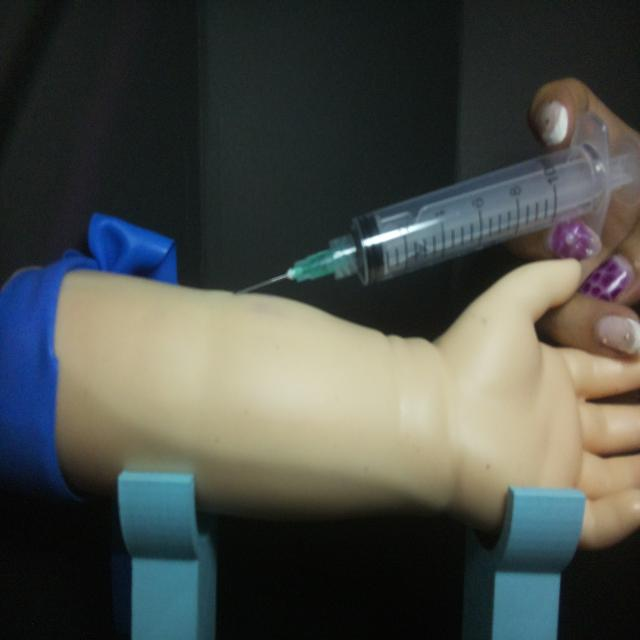21deg: (232, 106, 624, 300)
